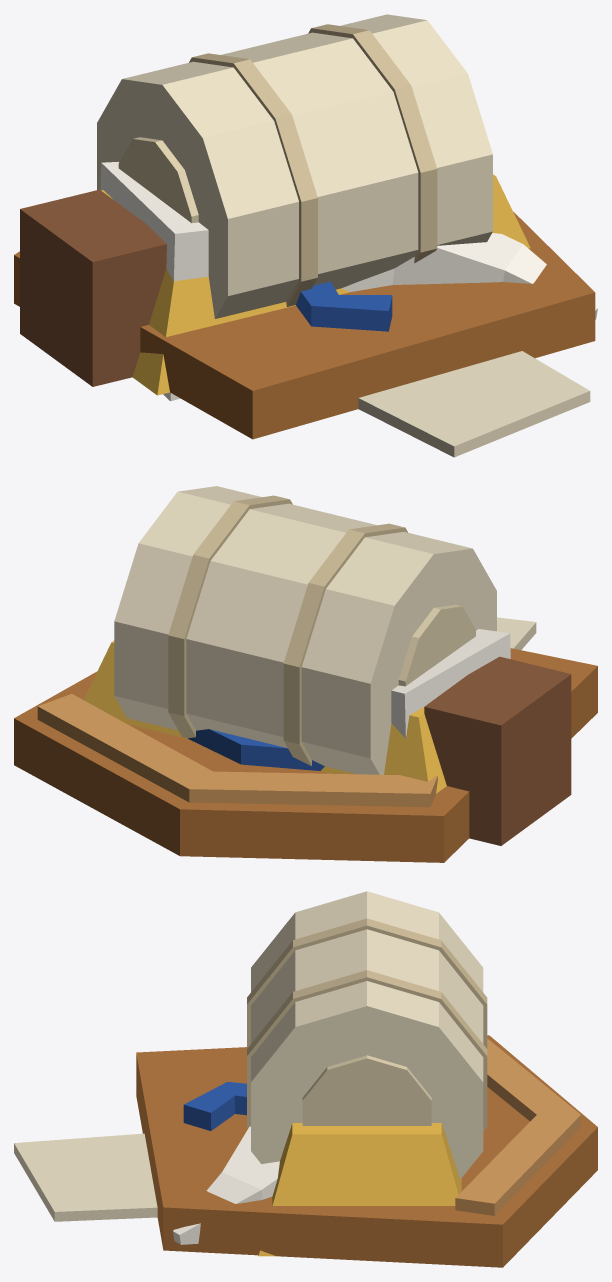
File: w4_craftmaterials.fbx
3 views of the same model, one above another, from view 1: azimuth 30°, elevation 25°; view 2: azimuth 150°, elevation 25°; view 3: azimuth 270°, elevation 25° (orthographic). The views are drawn at different scales.
Visible parts, largest first — view 1: MummyLinen.Roll, GuardianBronze.Shard, JackalFang.Root, MummyLinen.Tail, JackalFang.Fang, MummyLinen.Seams, PharaohsGold.Ingot, MummyLinen.Ends, GuardianBronze.Eye; view 2: MummyLinen.Roll, GuardianBronze.Shard, JackalFang.Root, GuardianBronze.Rim, MummyLinen.Seams, PharaohsGold.Ingot, JackalFang.Fang, MummyLinen.Ends, GuardianBronze.Eye, MummyLinen.Tail; view 3: MummyLinen.Roll, GuardianBronze.Shard, PharaohsGold.Ingot, MummyLinen.Tail, GuardianBronze.Rim, MummyLinen.Ends, MummyLinen.Seams, JackalFang.Fang, GuardianBronze.Eye.
Boxes of the visible parts, bbox=[...] form: MummyLinen.Roll: bbox=[97, 14, 492, 318]; GuardianBronze.Shard: bbox=[14, 211, 595, 439]; JackalFang.Root: bbox=[20, 189, 166, 386]; MummyLinen.Tail: bbox=[358, 351, 590, 457]; JackalFang.Fang: bbox=[100, 161, 597, 401]; MummyLinen.Seams: bbox=[189, 24, 437, 306]; PharaohsGold.Ingot: bbox=[101, 174, 530, 395]; MummyLinen.Ends: bbox=[118, 137, 198, 223]; GuardianBronze.Eye: bbox=[296, 281, 392, 331]; MummyLinen.Roll: bbox=[114, 486, 496, 774]; GuardianBronze.Shard: bbox=[14, 648, 597, 862]; JackalFang.Root: bbox=[424, 656, 571, 845]; GuardianBronze.Rim: bbox=[37, 694, 437, 807]; MummyLinen.Seams: bbox=[168, 495, 407, 766]; PharaohsGold.Ingot: bbox=[84, 640, 446, 793]; JackalFang.Fang: bbox=[391, 629, 510, 738]; MummyLinen.Ends: bbox=[398, 604, 475, 686]; GuardianBronze.Eye: bbox=[188, 729, 324, 770]; MummyLinen.Tail: bbox=[497, 617, 536, 649]; MummyLinen.Roll: bbox=[251, 891, 483, 1179]; GuardianBronze.Shard: bbox=[136, 1035, 597, 1267]; PharaohsGold.Ingot: bbox=[258, 1123, 461, 1256]; MummyLinen.Tail: bbox=[14, 1133, 157, 1221]; GuardianBronze.Rim: bbox=[455, 1038, 580, 1215]; MummyLinen.Ends: bbox=[302, 1055, 431, 1125]; MummyLinen.Seams: bbox=[247, 918, 487, 1131]; JackalFang.Fang: bbox=[173, 1126, 279, 1244]; GuardianBronze.Eye: bbox=[183, 1082, 246, 1130].
Bounding box in the file's own units: 0.7 × 0.4012 × 0.86.
